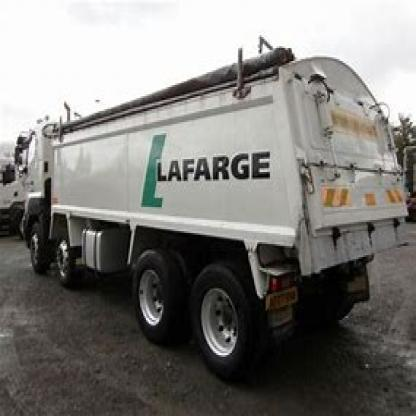dump_truck: (13, 32, 406, 372)
